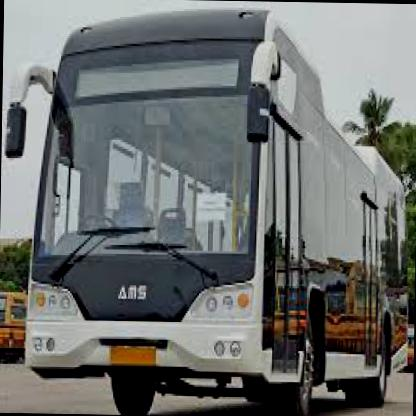bus: (3, 25, 415, 415)
